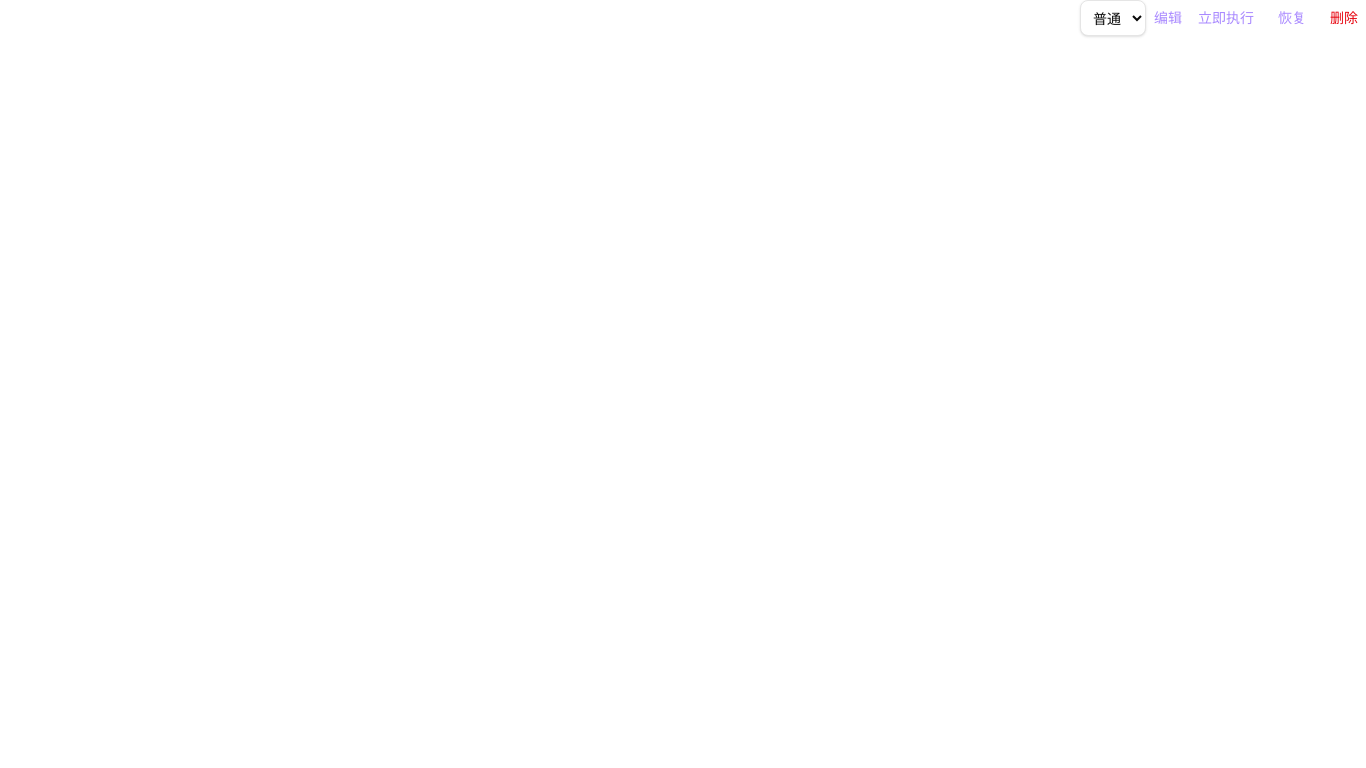
it: 任务管理 › 支持启动、暂停和删除且错误留在操作上下文
Click the button "恢复" at coordinates (1292, 18), box 1270,8 -> 1314,28
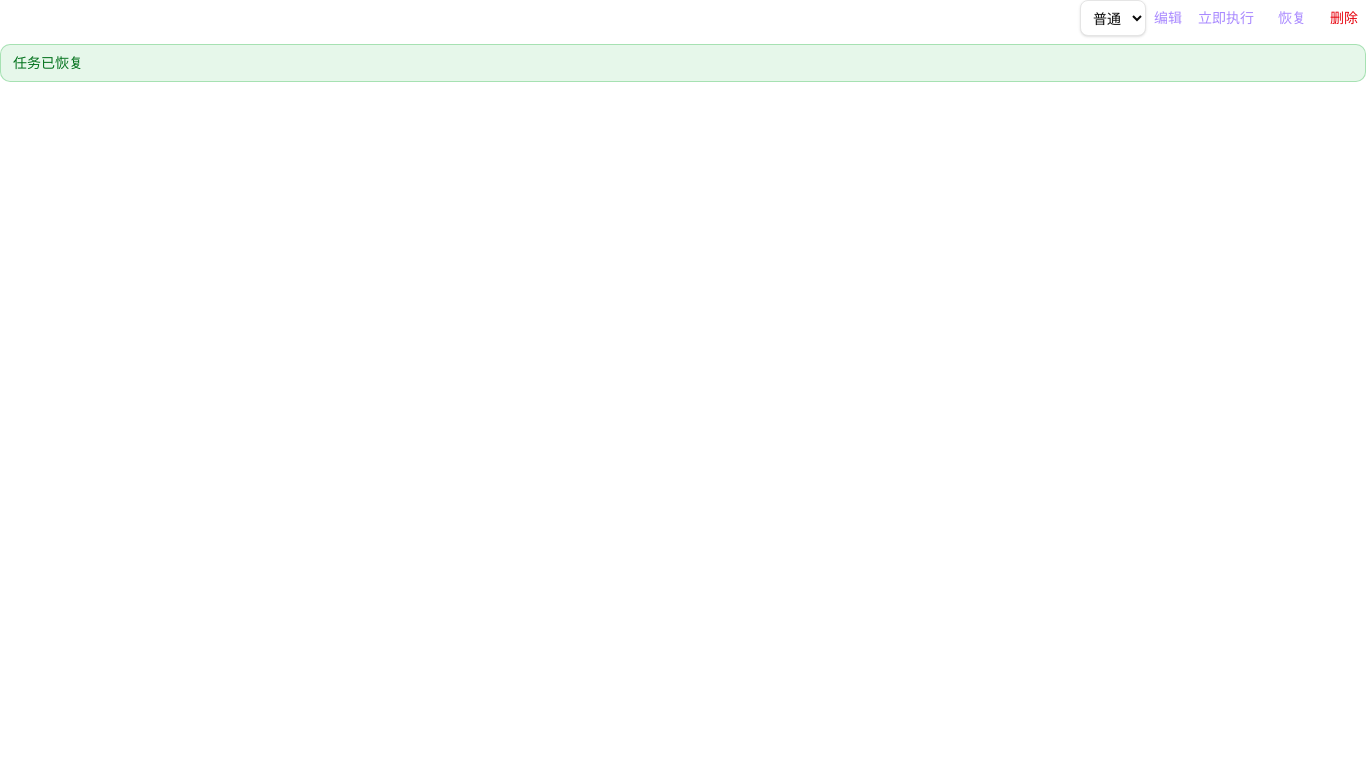
Click the button "删除" at coordinates (1344, 18), box 1322,8 -> 1365,28
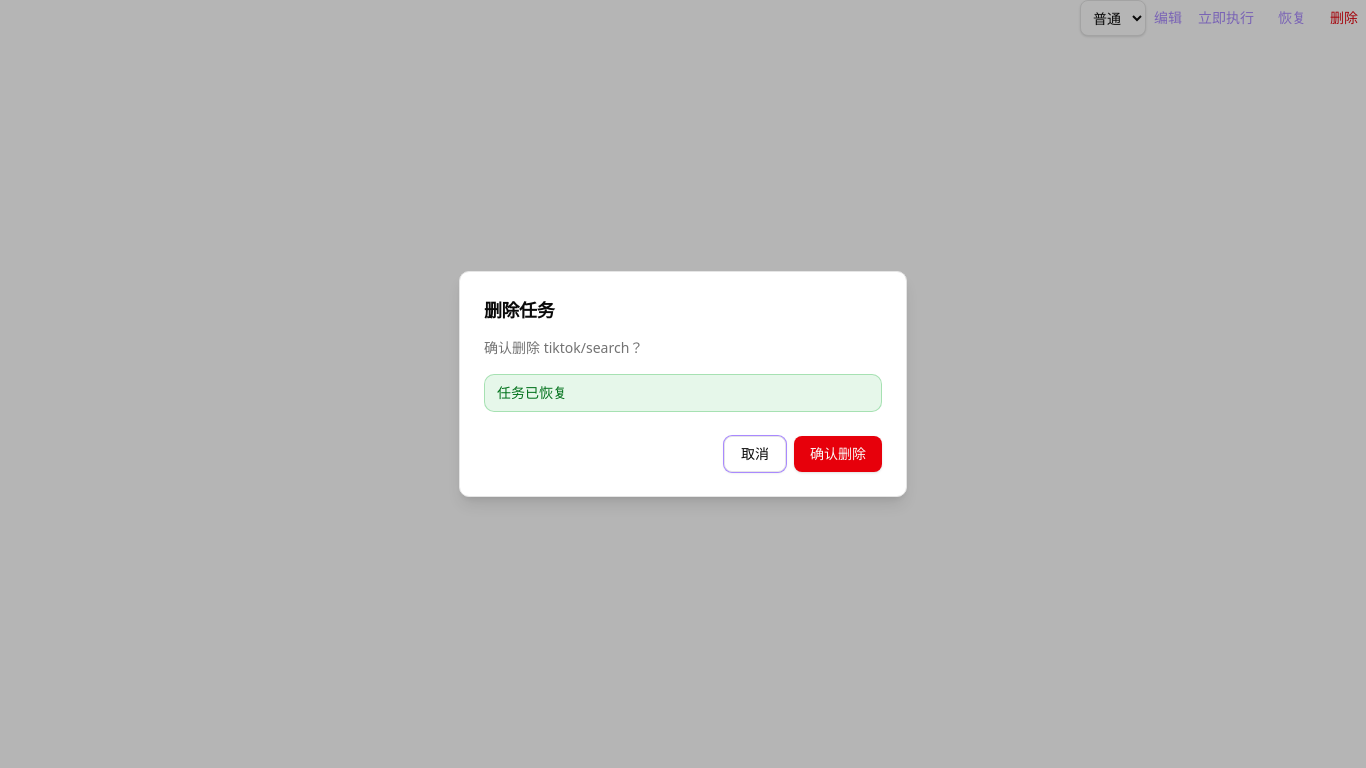
Click the button "确认删除" at coordinates (838, 454), box 794,436 -> 882,472
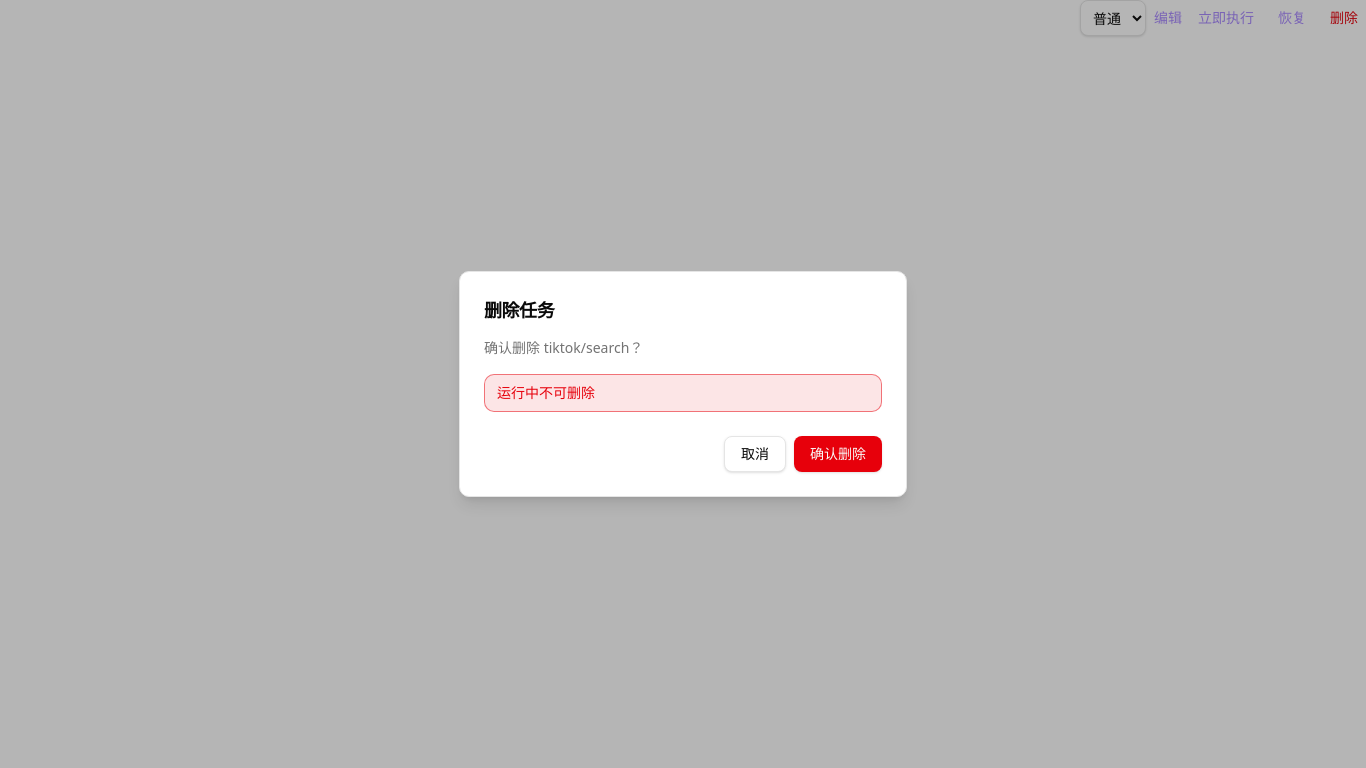
Expected: the message reads "运行中不可删除", 497,383 -> 595,402
